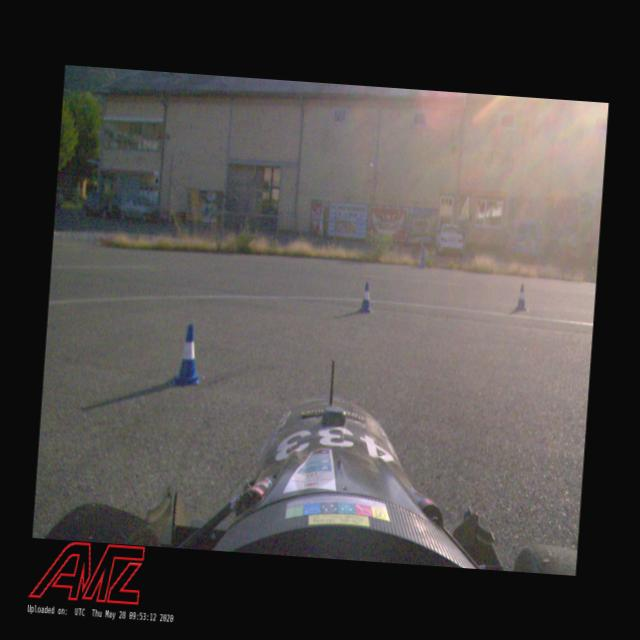blue_cone: (172, 322, 204, 387), (356, 280, 374, 314), (514, 284, 529, 310)
